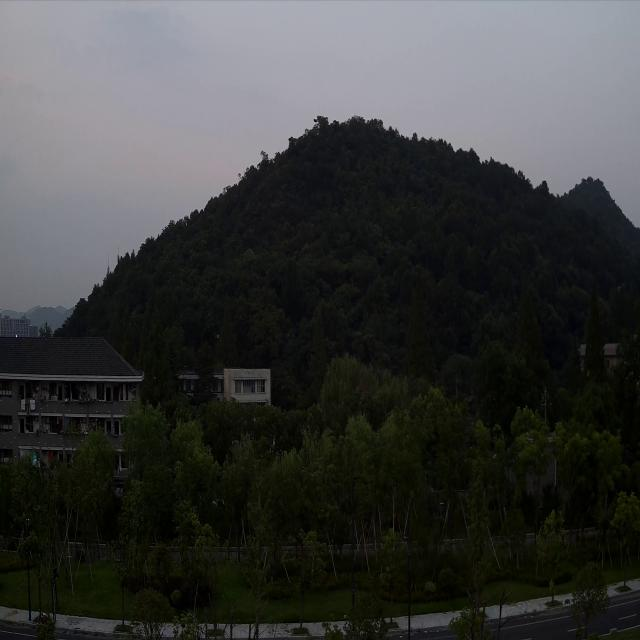drone: (214, 332, 222, 340)
